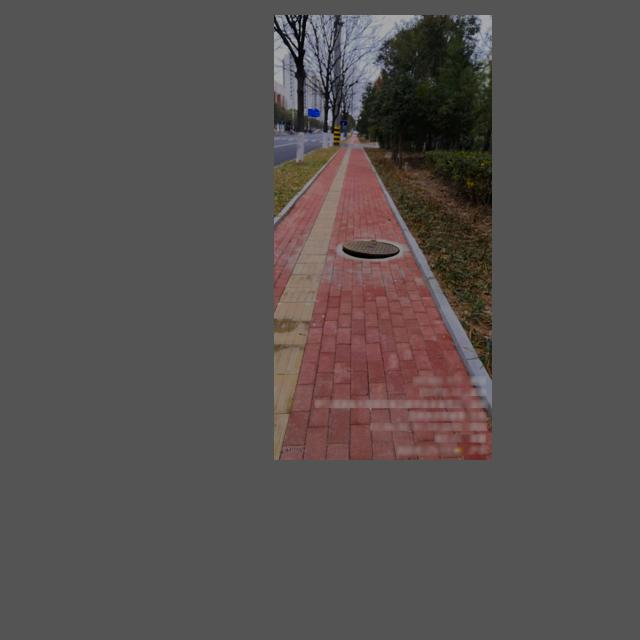uncovered: (340, 239, 402, 260)
